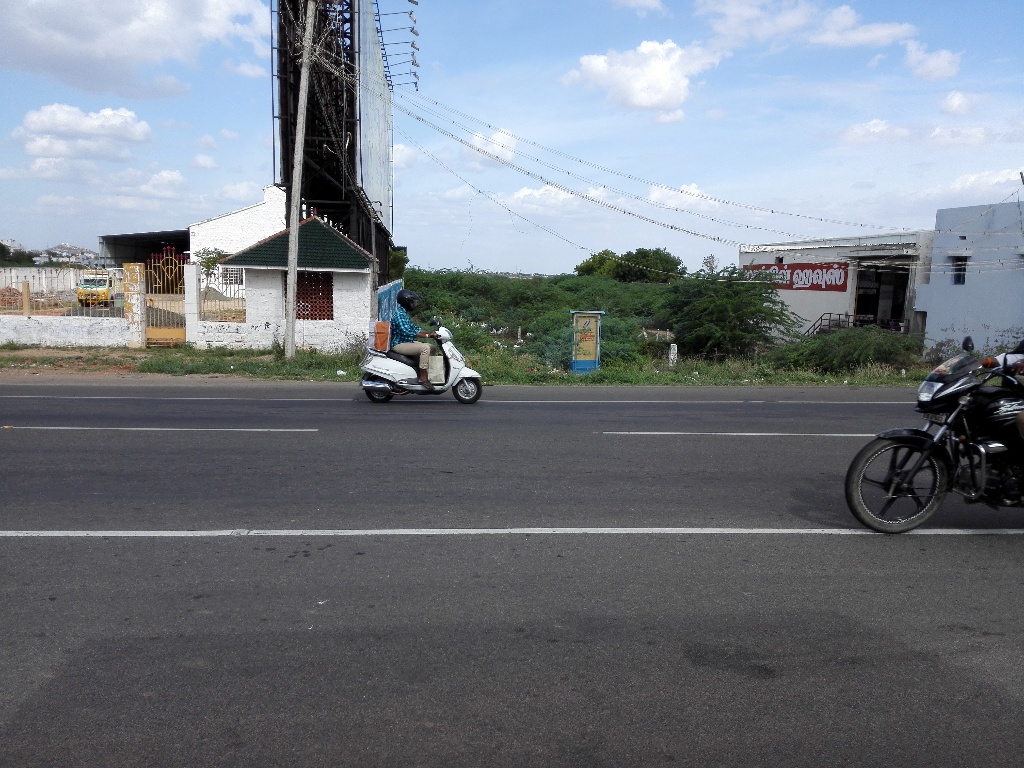biker: (345, 270, 497, 418)
helmet: (391, 283, 425, 319)
